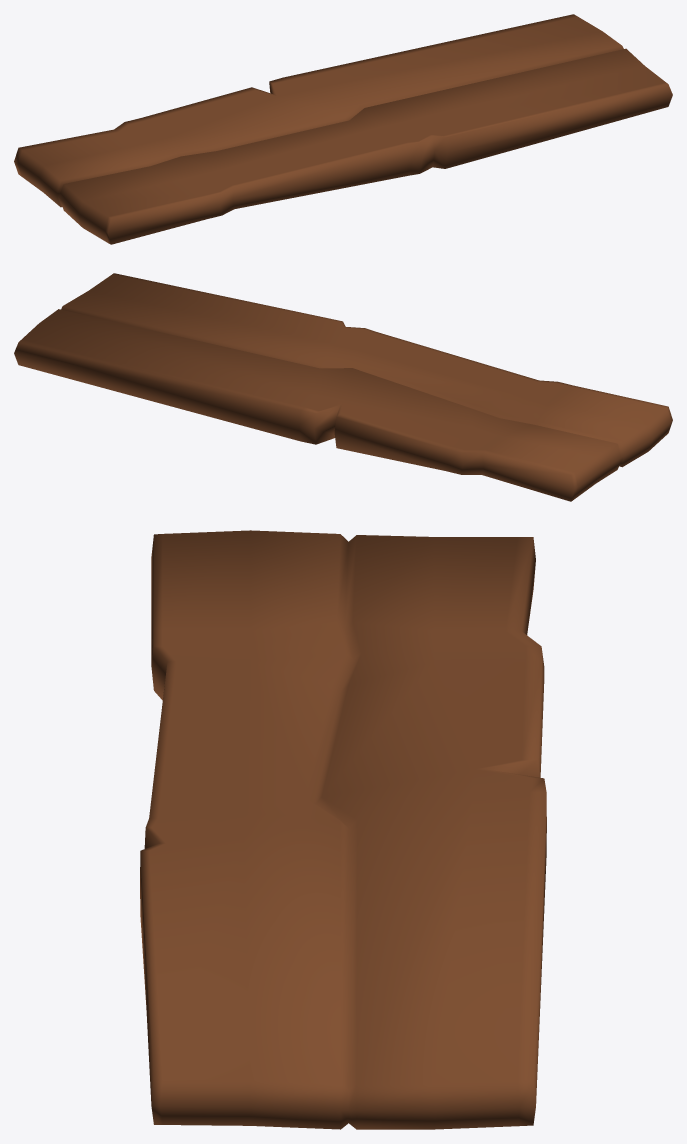
Rendered from Plank_D.fbx.
3 renders of one model, top to bottom at view 1: azimuth 30°, elevation 25°; view 2: azimuth 150°, elevation 25°; view 3: azimuth 270°, elevation 25°, orthographic. The views are drawn at different scales.
Parts seen in each view (by area): view 1: Plank_D; view 2: Plank_D; view 3: Plank_D.
Part boxes in pixels (bbox=[...]): Plank_D: bbox=[14, 14, 672, 244]; Plank_D: bbox=[14, 273, 672, 501]; Plank_D: bbox=[140, 530, 546, 1129].
Size of the model in its own units: 185 by 57.15 by 9.91.
